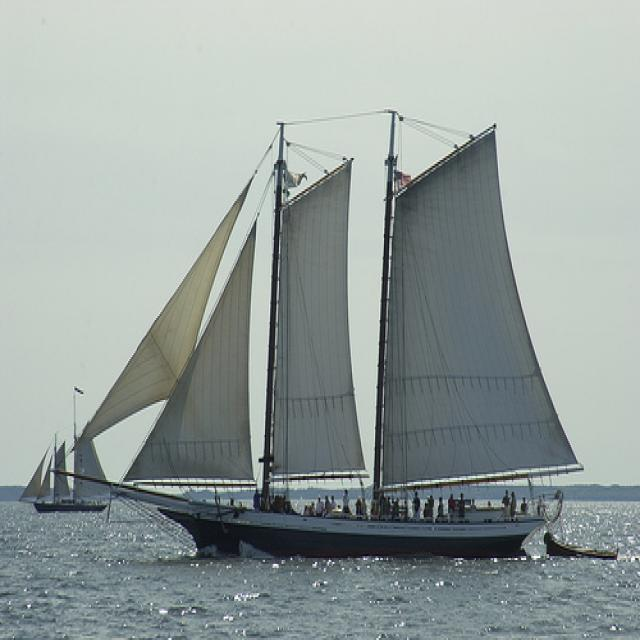Ship: (90, 105, 580, 570), (23, 387, 113, 527)
